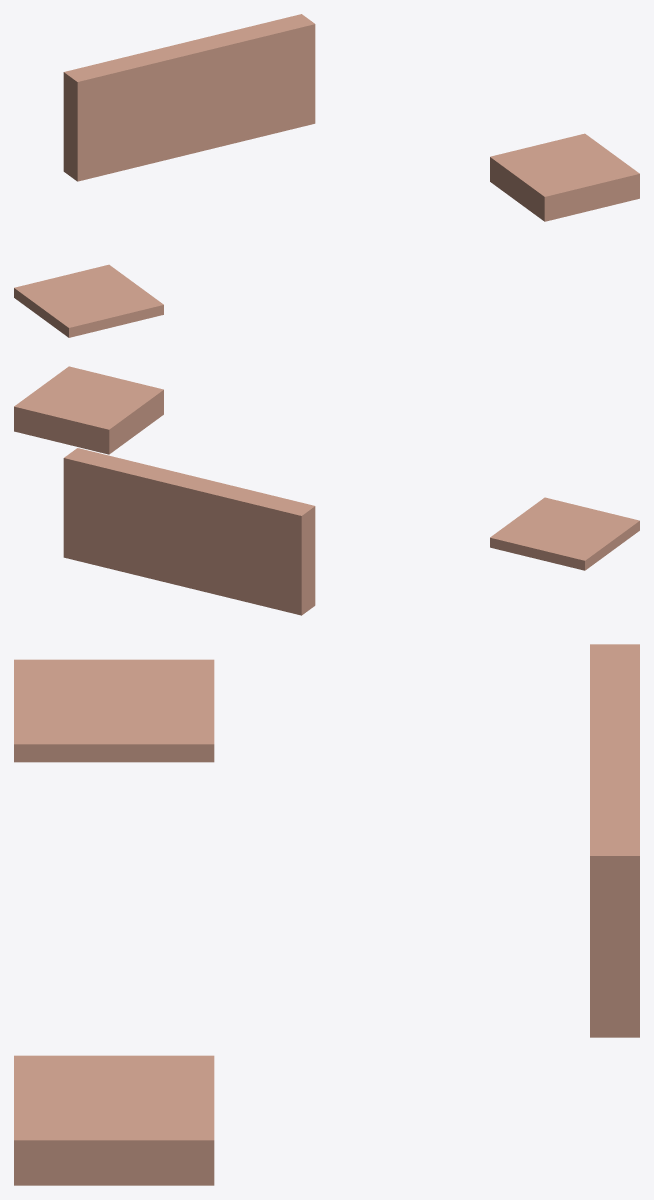
File: walk3.glb
3 views of the same model, one above another, from view 1: azimuth 30°, elevation 25°; view 2: azimuth 150°, elevation 25°; view 3: azimuth 270°, elevation 25° (orthographic). The views are drawn at different scales.
Visible parts, largest first — view 1: wall, high, low; view 2: wall, high, low; view 3: high, low, wall.
Boxes of the visible parts, x1,y1,x2,y2 form: wall: (63, 14, 315, 181); high: (490, 133, 639, 221); low: (14, 264, 163, 337); wall: (63, 448, 315, 615); high: (14, 366, 163, 454); low: (490, 497, 639, 570); high: (14, 1055, 214, 1185); low: (14, 659, 214, 762); wall: (590, 644, 639, 1037).
Size of what is drawn, in the model's own units: 24 by 4 by 12.5.
